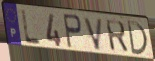4: (45, 11, 63, 48)
D: (125, 19, 149, 57)
L: (20, 9, 43, 46)
P: (62, 12, 83, 50)
R: (105, 19, 130, 54)
V: (83, 16, 104, 52)
